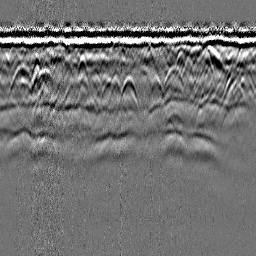cavity: (117, 72, 141, 114)
